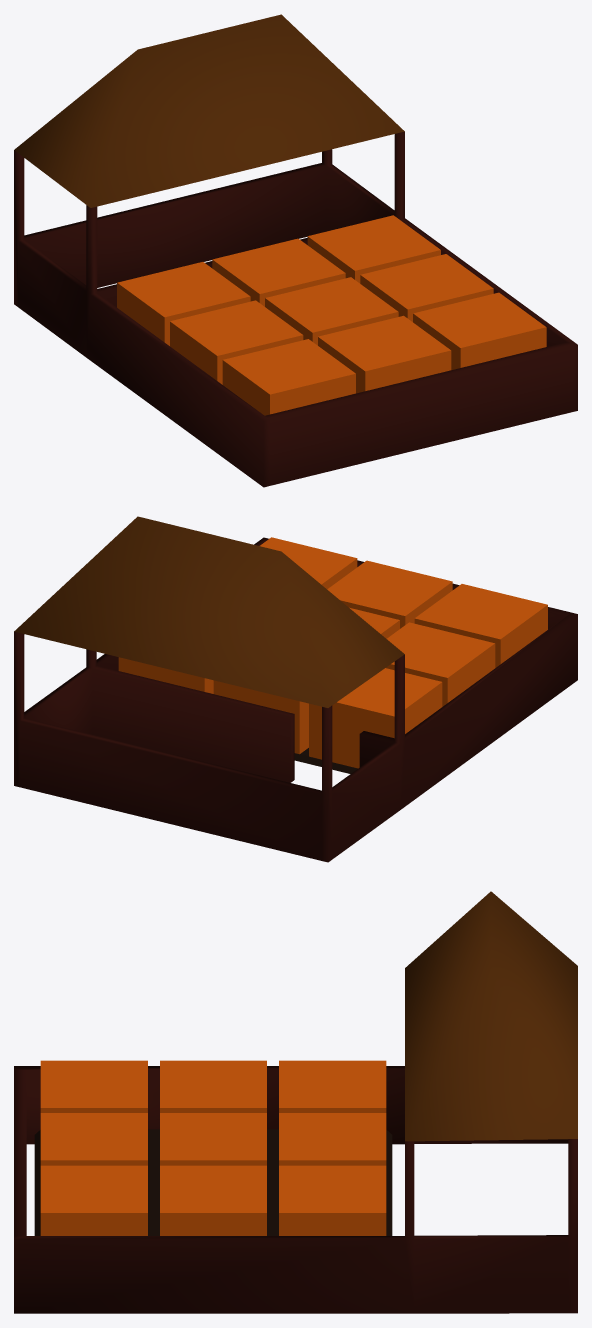
The model's file is farm.obj.
The picture shows the model from 3 angles, top to bottom: view 1: azimuth 30°, elevation 25°; view 2: azimuth 150°, elevation 25°; view 3: azimuth 270°, elevation 25°; orthographic projection. The views are drawn at different scales.
Parts seen in each view (by area): view 1: Cube_Cube.002; view 2: Cube_Cube.002; view 3: Cube_Cube.002.
Part boxes in pixels (box(x1,y1,x2,y2)): Cube_Cube.002: box(14, 14, 577, 487); Cube_Cube.002: box(14, 516, 577, 862); Cube_Cube.002: box(14, 891, 577, 1313).
Size of the model in its own units: 4.29 by 3.42 by 5.9.
